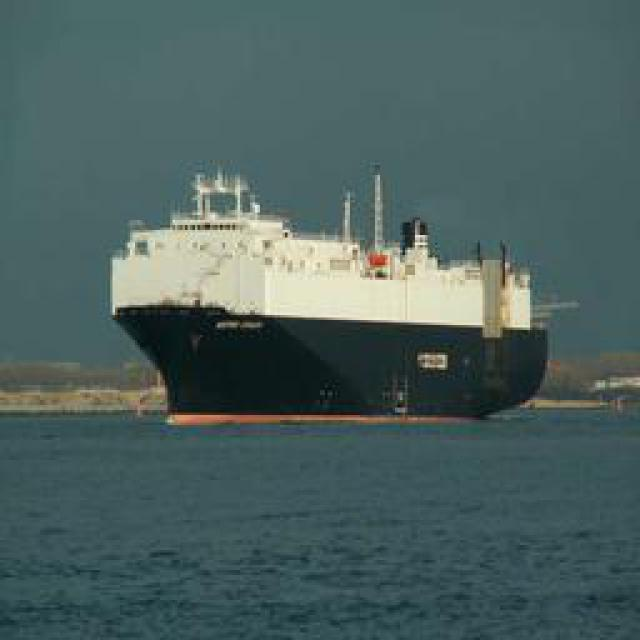Ship: (105, 155, 558, 423)
